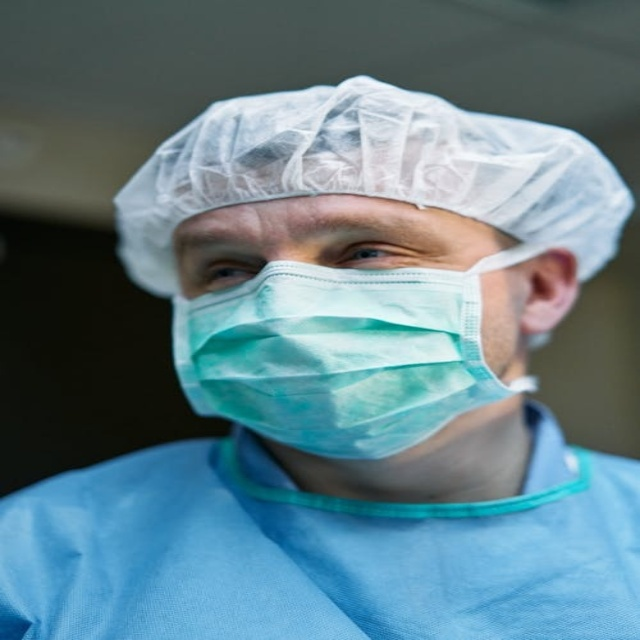Mascara: (172, 252, 536, 459)
Sin_gafas: (335, 245, 411, 264), (202, 264, 258, 285)
